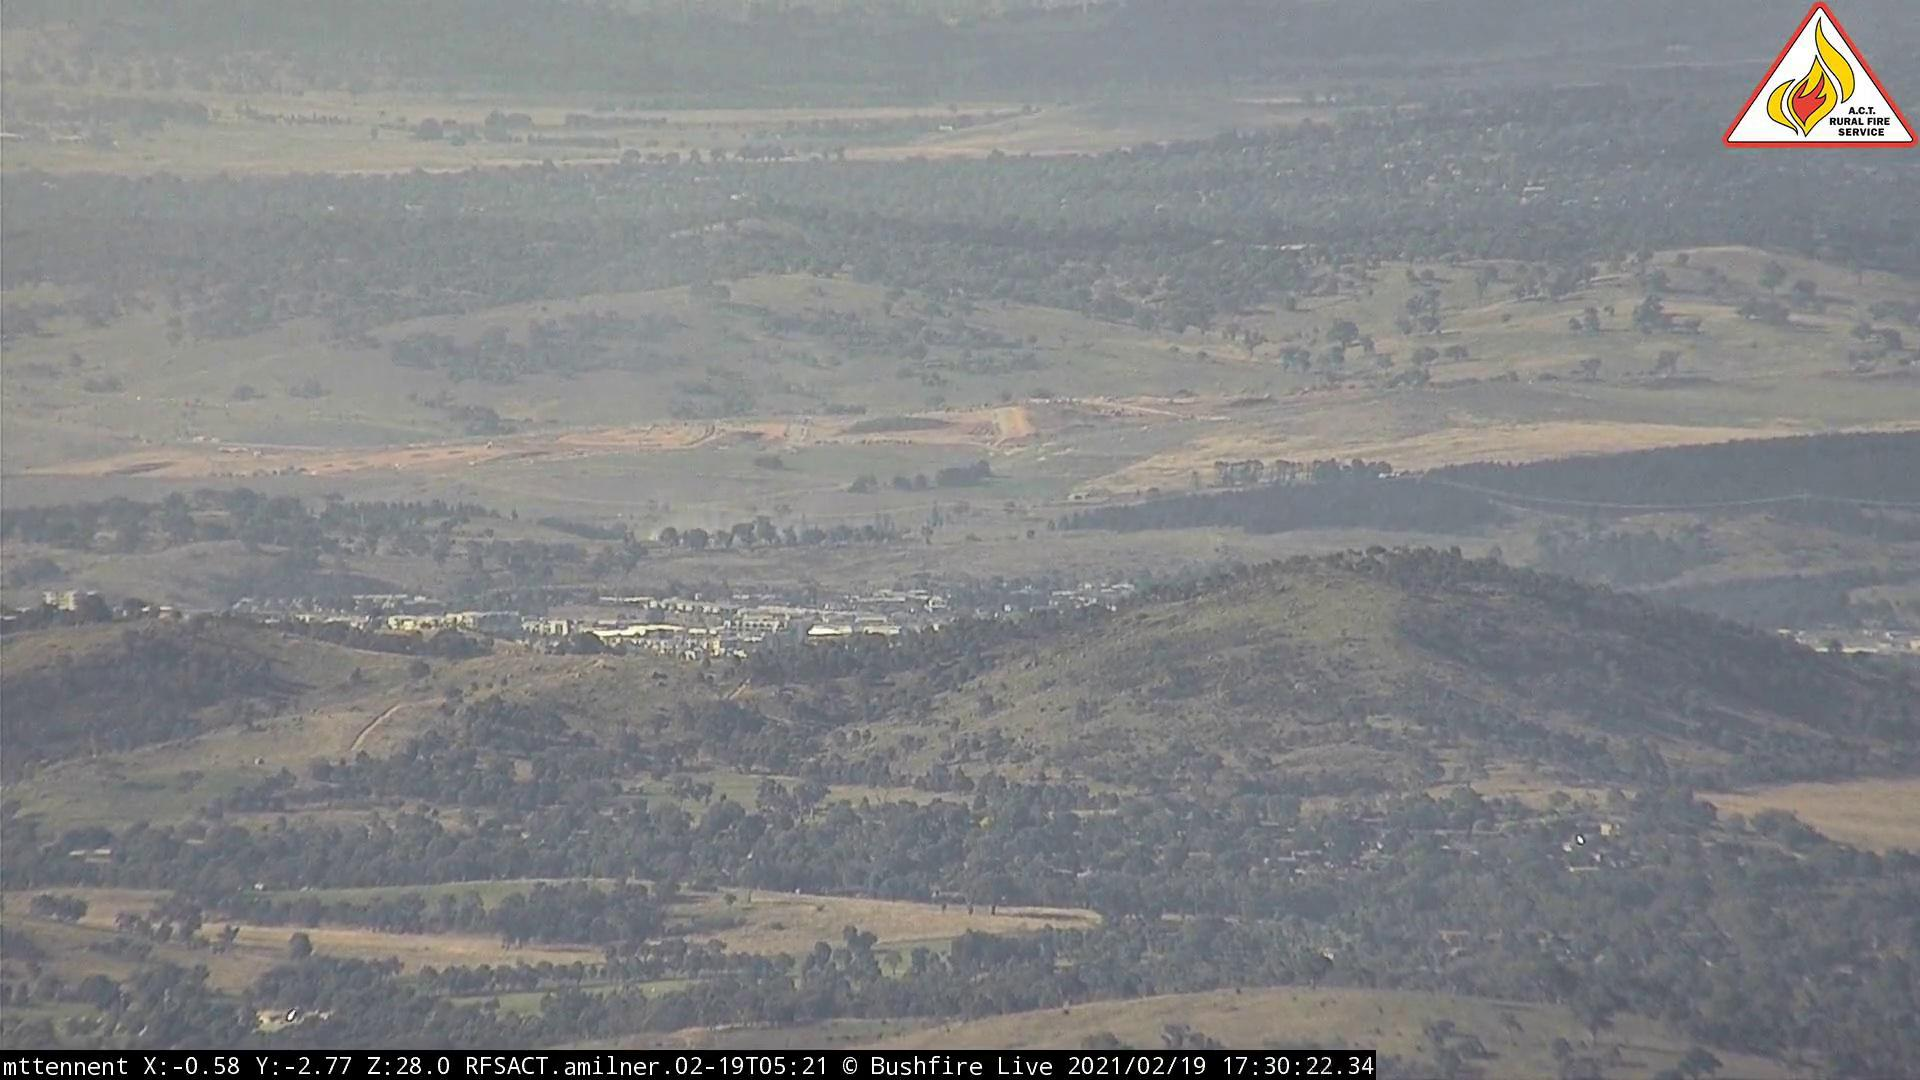Smoke: (653, 472, 818, 541)
